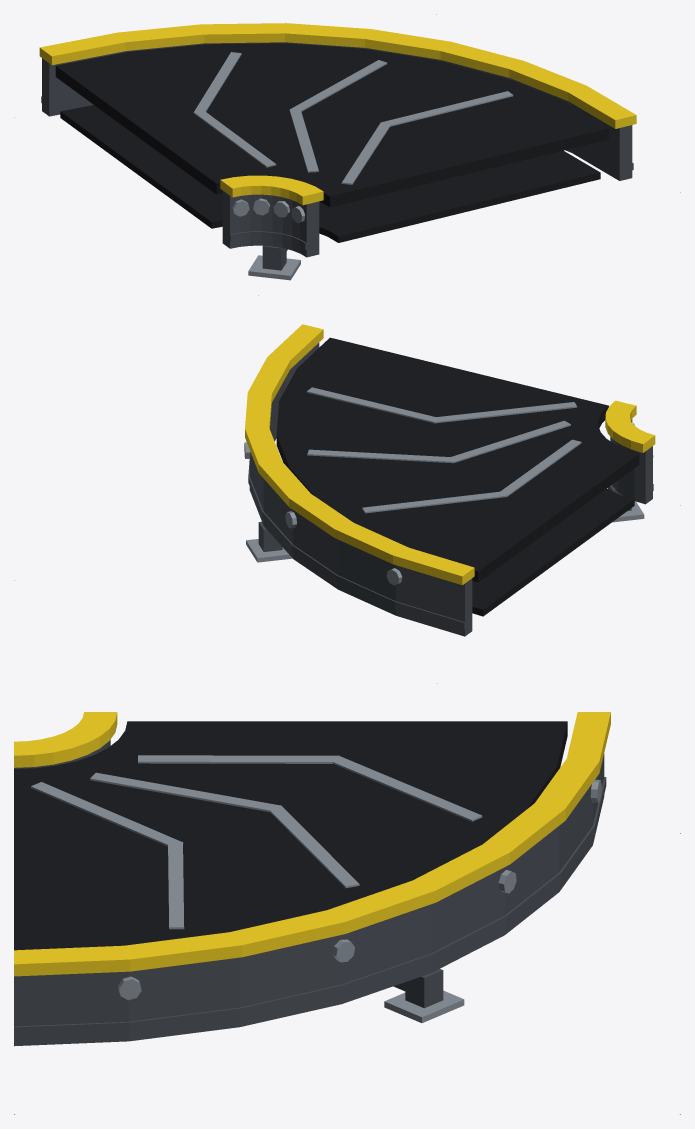
File: convoyeur_virage_inverse_t1.glb
The picture shows the model from 3 angles, top to bottom: view 1: azimuth 30°, elevation 25°; view 2: azimuth 150°, elevation 25°; view 3: azimuth 270°, elevation 25°; orthographic projection. The views are drawn at different scales.
Visible parts, largest first — view 1: bande_porteuse.024, bande_retour.024, rive_1.024, bande_acier.042, longeron_1.024, longeron_-1.024, rive_-1.024, pieces_acier.048, nervure_-1.012, pieces_acier_sombre.016; view 2: bande_porteuse.024, longeron_1.024, rive_1.024, bande_retour.024, bande_acier.042, nervure_1.012, rive_-1.024, longeron_-1.024, pieces_acier.048; view 3: bande_porteuse.024, longeron_1.024, rive_1.024, bande_acier.042, nervure_1.012, rive_-1.024, pieces_acier.048, pieces_acier_sombre.016.
Boxes of the visible parts, x1,y1,x2,y2 form: bande_porteuse.024: (55, 43, 608, 207); bande_retour.024: (60, 105, 600, 242); rive_1.024: (39, 23, 636, 128); bande_acier.042: (193, 52, 513, 184); longeron_1.024: (42, 42, 632, 180); longeron_-1.024: (222, 190, 319, 257); rive_-1.024: (220, 175, 323, 205); pieces_acier.048: (232, 198, 305, 280); nervure_-1.012: (230, 231, 307, 249); pieces_acier_sombre.016: (262, 245, 287, 270); bande_porteuse.024: (276, 337, 639, 582); longeron_1.024: (249, 342, 472, 636); rive_1.024: (245, 324, 474, 585); bande_retour.024: (472, 488, 634, 616); bande_acier.042: (306, 387, 581, 513); nervure_1.012: (248, 461, 465, 629); rive_-1.024: (605, 400, 655, 452); longeron_-1.024: (610, 419, 652, 504); pieces_acier.048: (244, 423, 653, 585); bande_porteuse.024: (14, 721, 567, 950); longeron_1.024: (14, 753, 604, 1046); rive_1.024: (14, 712, 610, 976); bande_acier.042: (31, 755, 482, 929); nervure_1.012: (14, 777, 606, 1036); rive_-1.024: (14, 712, 117, 767); pieces_acier.048: (118, 779, 601, 1022); pieces_acier_sombre.016: (393, 969, 443, 1008).
Bounding box in the file's own units: 1 × 0.2 × 1.
